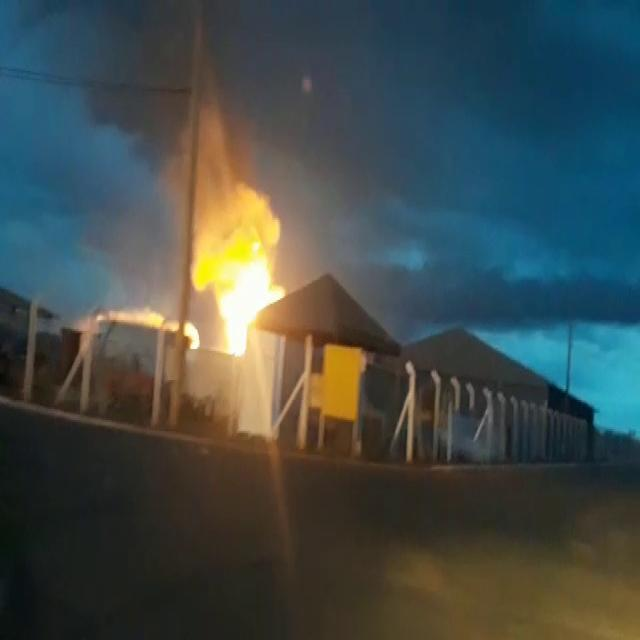Fire: (227, 256, 283, 349), (109, 302, 185, 333), (185, 320, 199, 348)
Smoke: (30, 14, 224, 214)
